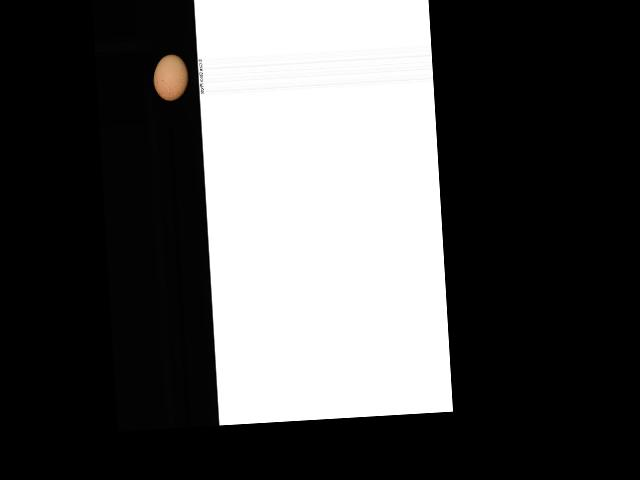egg: (152, 53, 190, 101)
